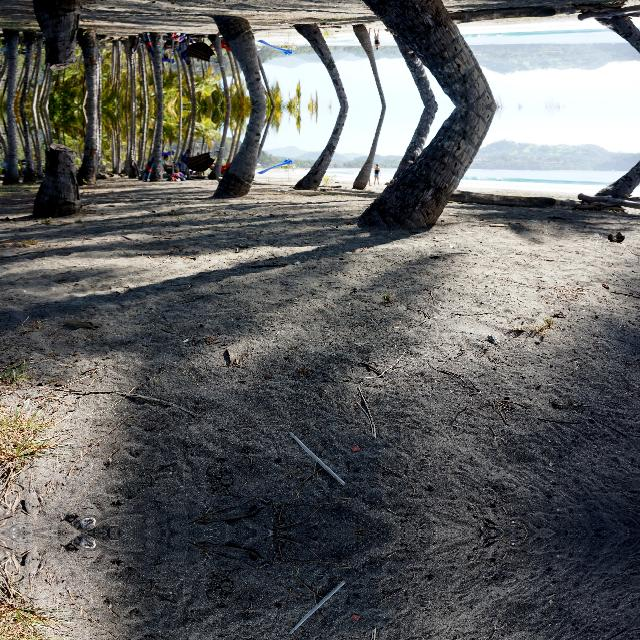Metal: (78, 513, 100, 531), (78, 534, 100, 552)
Plastic: (284, 576, 348, 638), (284, 428, 348, 488)
